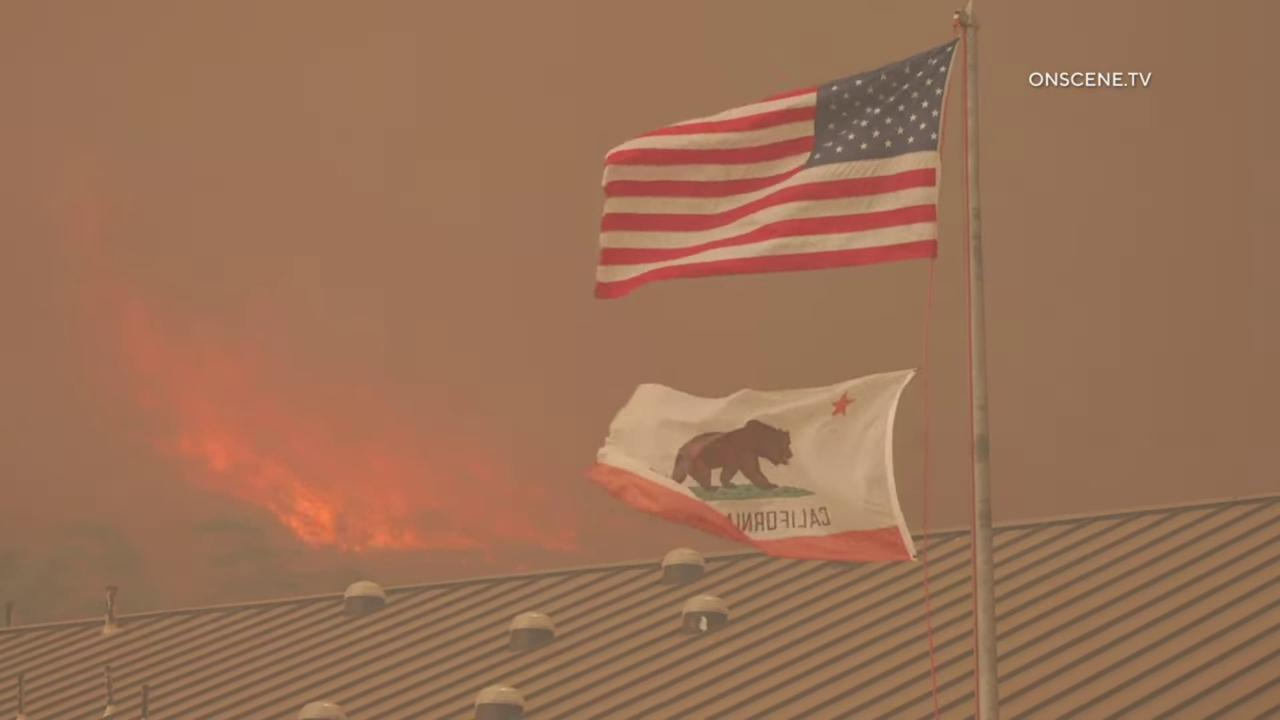fire: (126, 309, 598, 558)
smoke: (0, 0, 1280, 627)
